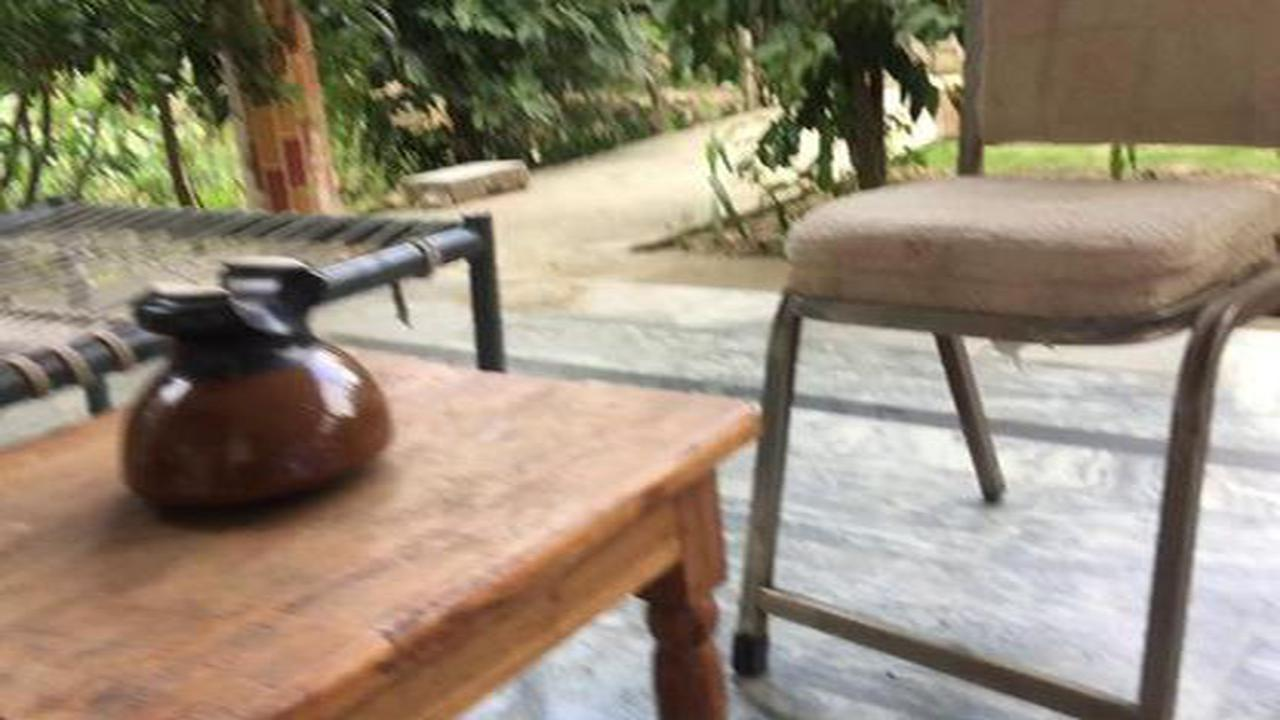insulator_pin: (84, 245, 416, 535)
